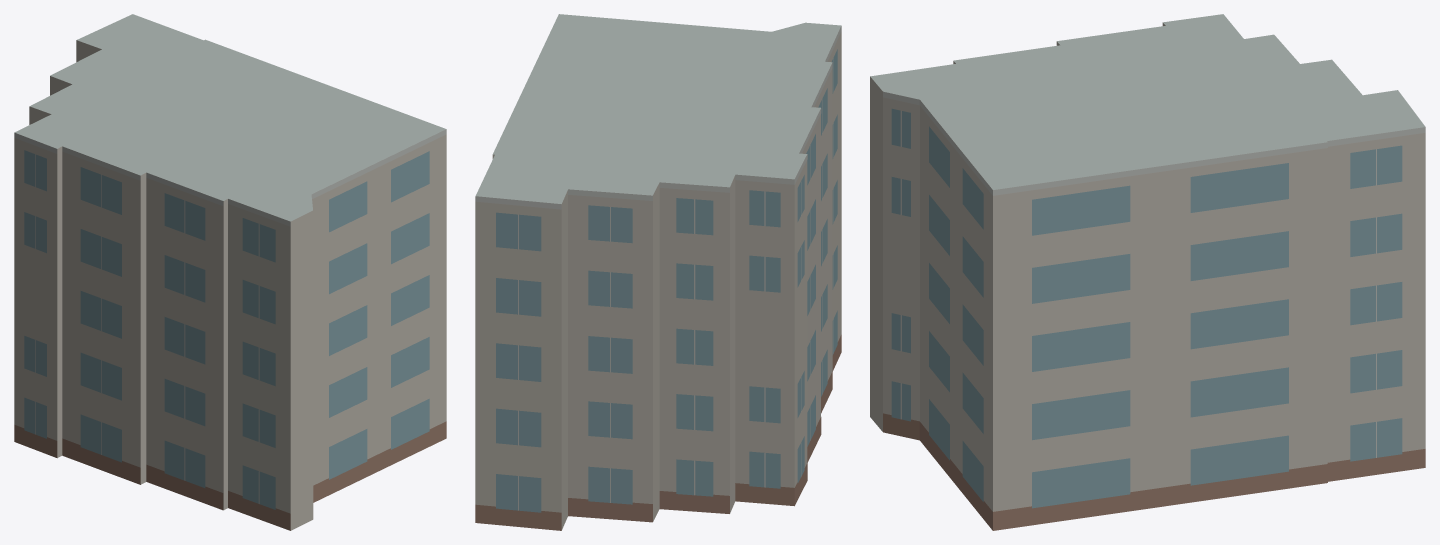
Rendered from survey-upis-33011665.glb.
3 renders of one model, left to right at view 1: azimuth 30°, elevation 25°; view 2: azimuth 150°, elevation 25°; view 3: azimuth 270°, elevation 25°, orthographic. The views are drawn at different scales.
Parts seen in each view (by area): view 1: survey-upis-33011665.tmp; view 2: survey-upis-33011665.tmp; view 3: survey-upis-33011665.tmp.
Boxes of the visible parts, <box> form: survey-upis-33011665.tmp: <box>14,14,446,530</box>; survey-upis-33011665.tmp: <box>475,14,841,530</box>; survey-upis-33011665.tmp: <box>870,14,1425,530</box>.
Bounding box in the file's own units: 16.09 × 14.5 × 21.44.
